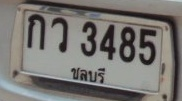txt01: (26, 13, 46, 50)
txt32: (50, 16, 69, 53)
